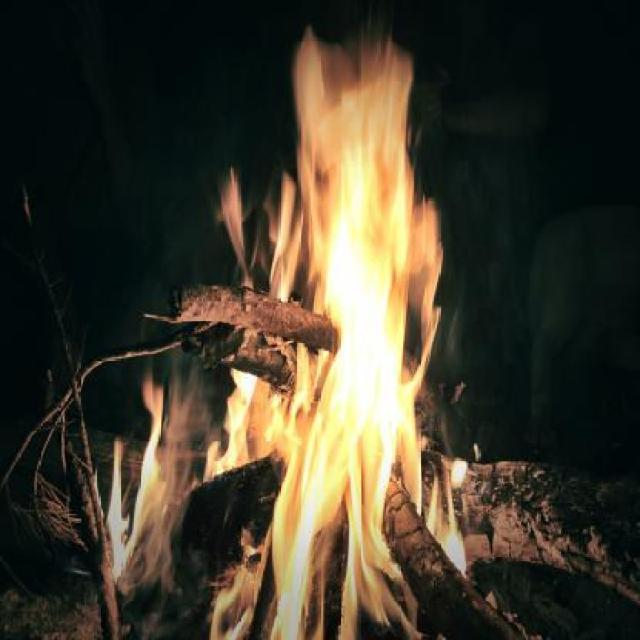fire: (295, 32, 441, 314), (273, 453, 389, 637), (234, 372, 418, 455), (139, 375, 167, 541), (103, 439, 133, 556)
